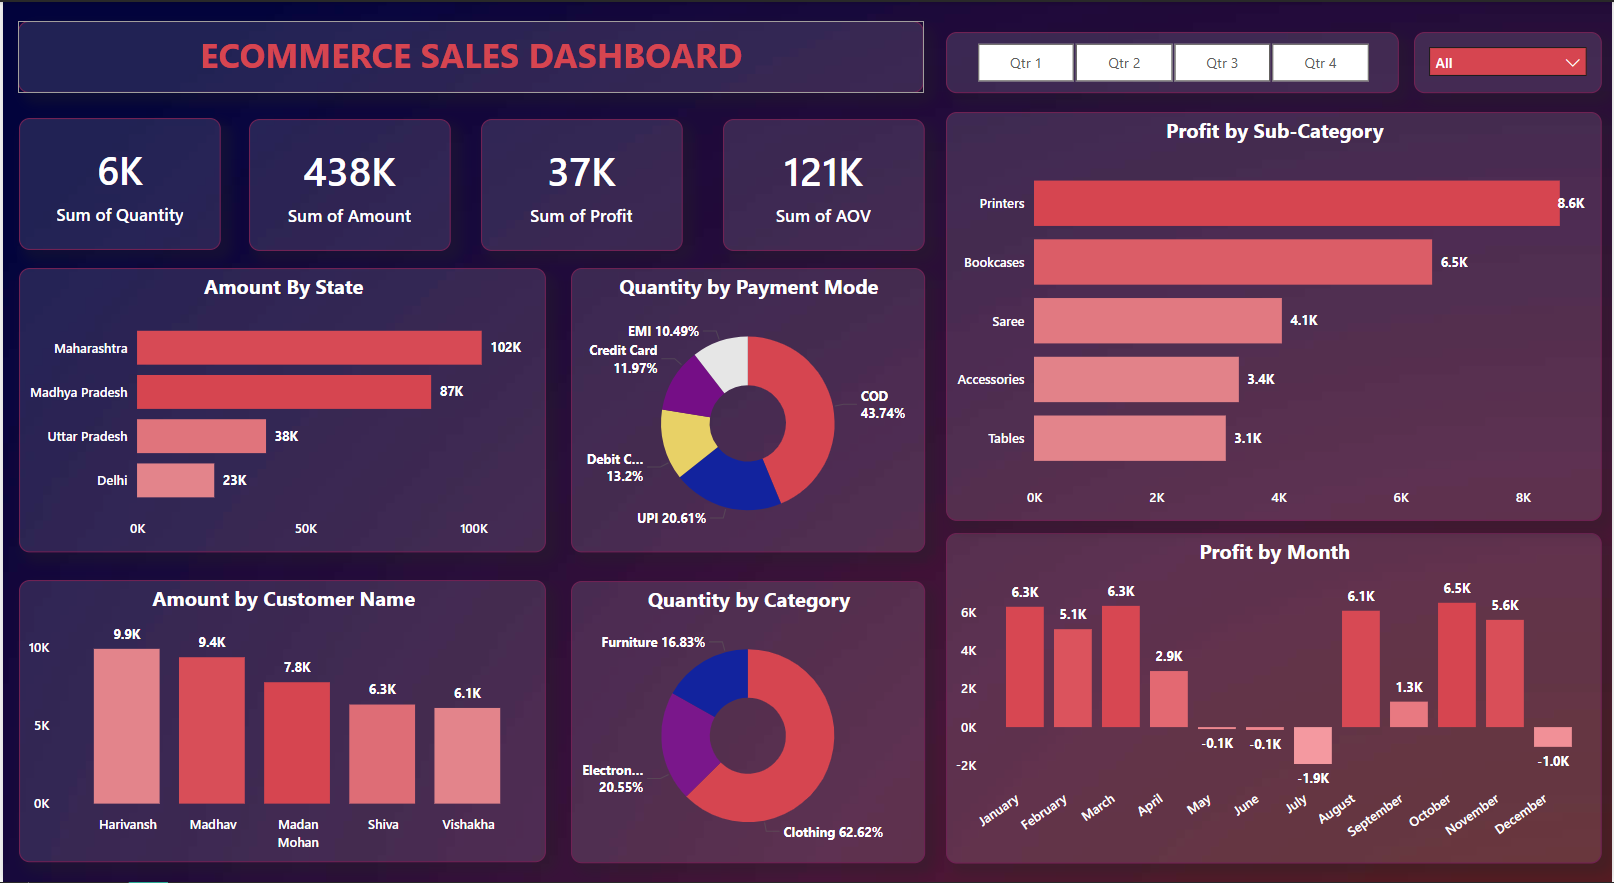

This screenshot's page, from the dashboard's own definition file:
{"tool":"powerbi","page":{"name":"Dashboard","canvas":[1500,820],"ordinal":0},"visuals":[{"type":"textbox","box":[14.2,17.7,844.5,67.3],"z":0},{"type":"clusteredColumnChart","title":"Profit by Month","fields":{"Category":["Orders.Order Date.Variation.Date Hierarchy.Month"],"Y":["Sum(Details.Profit)"]},"box":[878.7,494.9,610.6,308.3],"z":1000},{"type":"barChart","title":"Profit by Sub-Category","fields":{"Category":["Details.Sub-Category"],"Y":["Sum(Details.Profit)"]},"box":[878.7,102.8,610.6,381.5],"z":2000},{"type":"pieChart","title":"Quantity by Category","fields":{"Category":["Details.Category"],"Y":["Sum(Details.Quantity)"]},"box":[529.1,539.8,329.5,263.4],"z":3000},{"type":"pieChart","title":"Quantity by Payment Mode","fields":{"Y":["Sum(Details.Quantity)"],"Category":["Details.PaymentMode"]},"box":[529.1,248,329.5,264.6],"z":4000},{"type":"cardVisual","fields":{"Data":["Sum(Details.Amount)"]},"box":[229.1,108.7,187.8,122.8],"z":5000},{"type":"cardVisual","fields":{"Data":["Sum(Details.Quantity)"]},"box":[14.5,108.5,188,123],"z":6000},{"type":"cardVisual","fields":{"Data":["Sum(Details.Profit)"]},"box":[445.3,108.7,187.8,122.8],"z":7000},{"type":"cardVisual","fields":{"Data":["Sum(Details.AOV)"]},"box":[670.9,108.7,187.8,122.8],"z":8000},{"type":"barChart","title":"Amount By State","fields":{"Category":["Orders.State"],"Y":["Sum(Details.Amount)"]},"box":[15.4,248,491.3,264.6],"z":8001},{"type":"columnChart","title":"Amount by Customer Name","fields":{"Category":["Orders.CustomerName"],"Y":["Sum(Details.Amount)"]},"box":[15.4,538.6,491.3,263.4],"z":8002},{"type":"slicer","fields":{"Values":["Orders.Order Date.Variation.Date Hierarchy.Quarter"]},"box":[878.7,27.9,421.8,56.9],"z":8003},{"type":"slicer","fields":{"Values":["Orders.State"]},"box":[1315,27.9,174.7,56.9],"z":8004}]}

Visuals, with their boxes in screenshot pixels (x1, y1, x2, y2), scaled from the page's 1500x820 canvas onto the 1614x883 screenshot:
textbox: Rect(15, 19, 924, 92)
"Profit by Month" clusteredColumnChart: Rect(945, 533, 1602, 865)
"Profit by Sub-Category" barChart: Rect(945, 111, 1602, 522)
"Quantity by Category" pieChart: Rect(569, 581, 924, 865)
"Quantity by Payment Mode" pieChart: Rect(569, 267, 924, 552)
cardVisual - Sum(Details.Amount): Rect(247, 117, 449, 249)
cardVisual - Sum(Details.Quantity): Rect(16, 117, 218, 249)
cardVisual - Sum(Details.Profit): Rect(479, 117, 681, 249)
cardVisual - Sum(Details.AOV): Rect(722, 117, 924, 249)
"Amount By State" barChart: Rect(17, 267, 545, 552)
"Amount by Customer Name" columnChart: Rect(17, 580, 545, 864)
slicer - Orders.Order Date.Variation.Date Hierarchy.Quarter: Rect(945, 30, 1399, 91)
slicer - Orders.State: Rect(1415, 30, 1603, 91)
